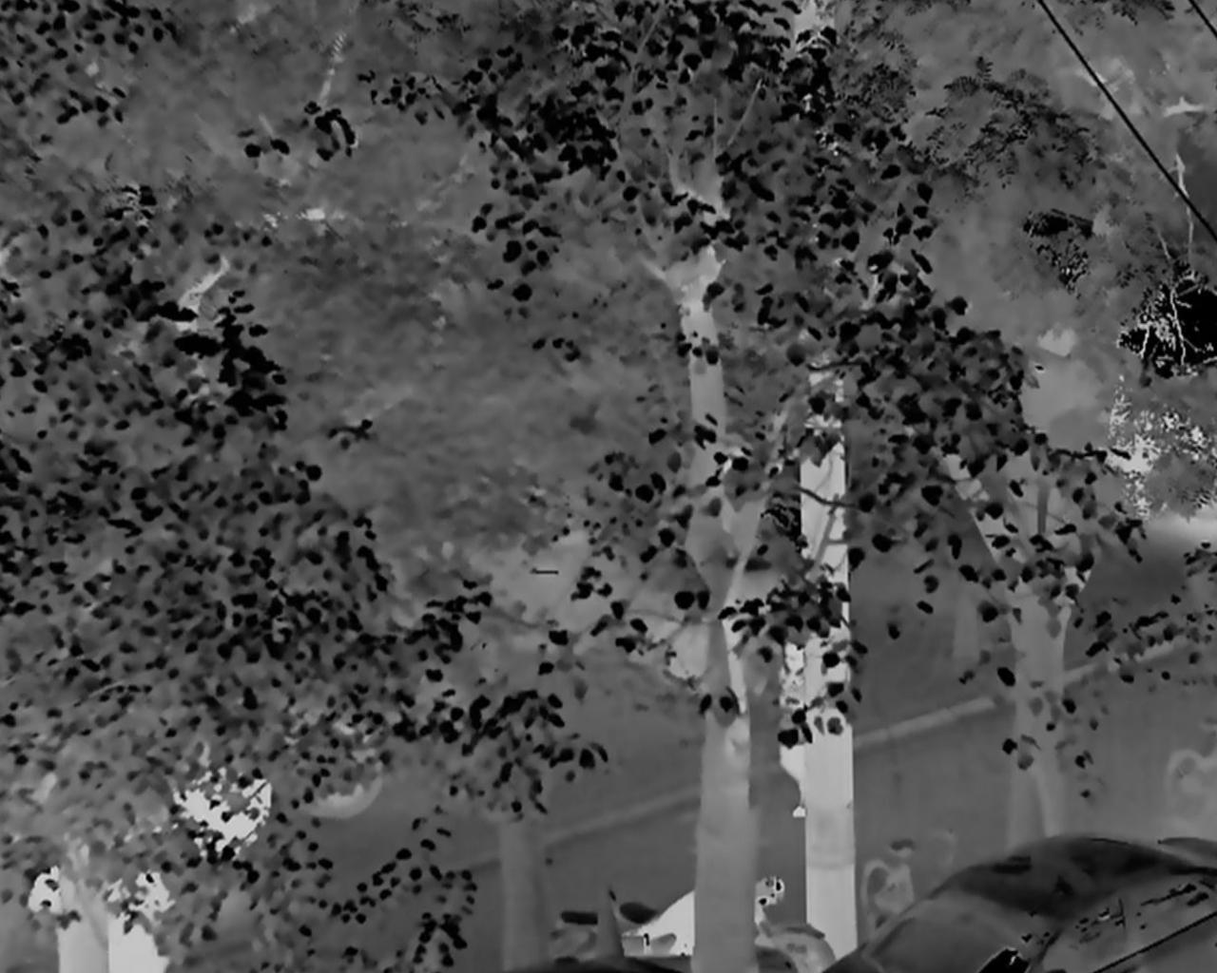person: (106, 869, 170, 973), (774, 636, 808, 820)
